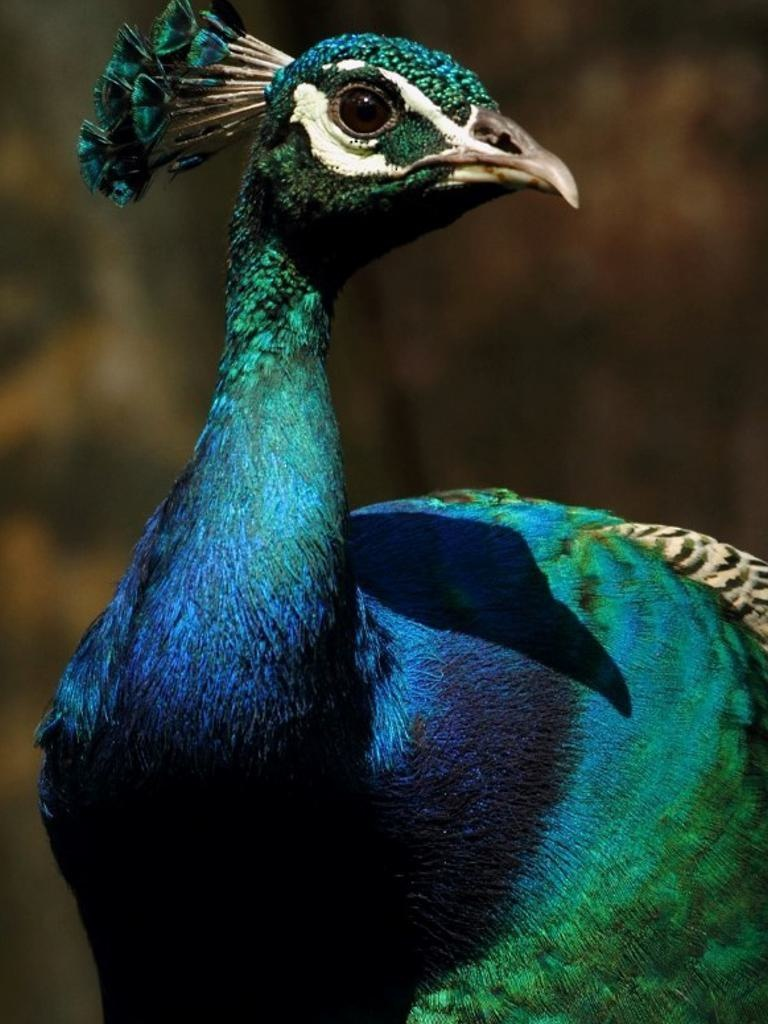peacock: (88, 26, 768, 919)
